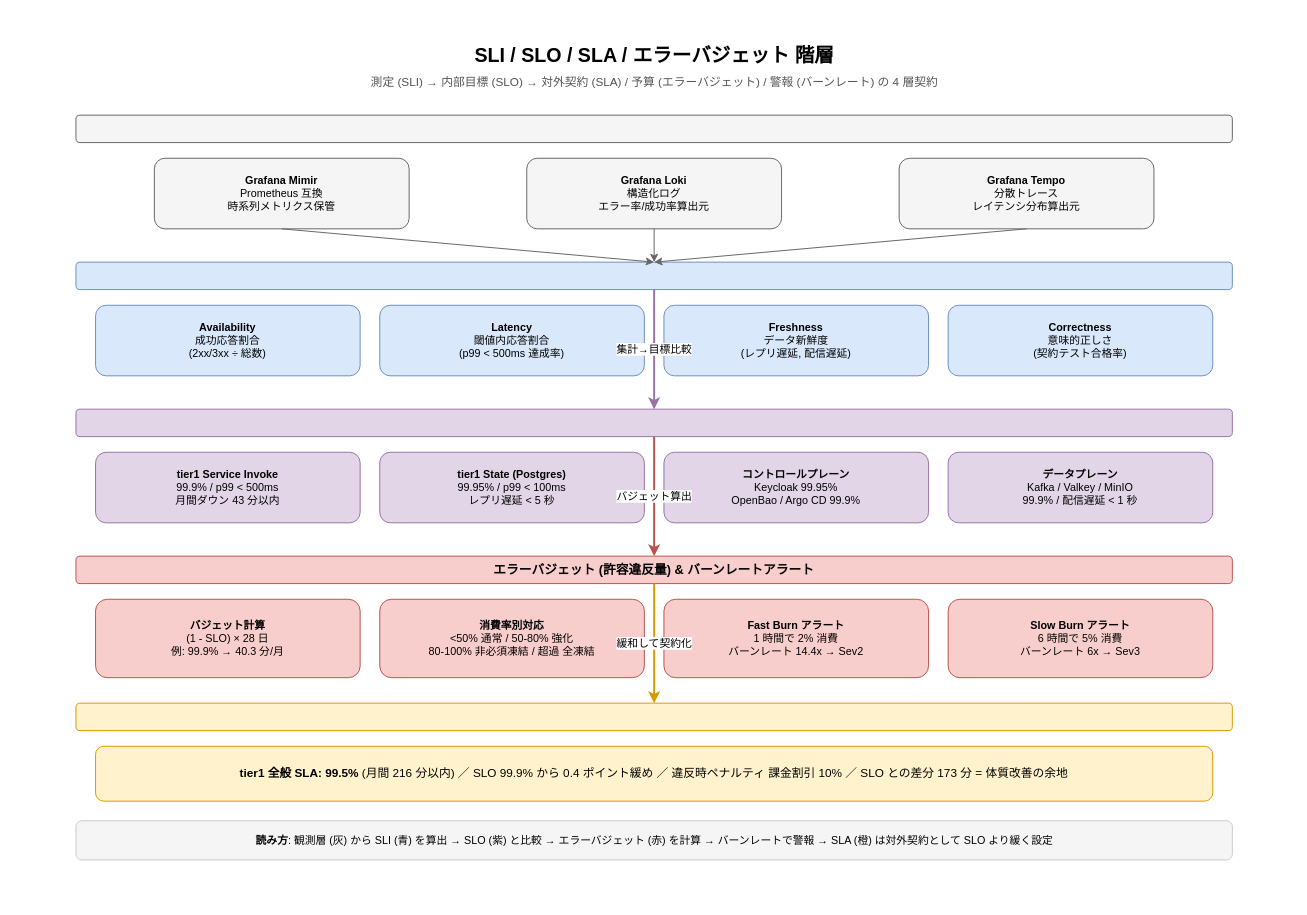
Some shapes in this 1307 by 915 pixel diagram are drawn without their labels. Each missing label, with the centre of its shape:
"SLA (Service Level Agreement) — 対外契約 / BC-LGL-005" goes at point 653,716.
"SLI (Service Level Indicator) — 実測値" goes at point 653,275.
"SLO (Service Level Objective) — 内部目標 / 28 日ローリング" goes at point 653,422.
"メトリクス源 (観測層)" goes at point 653,128.
